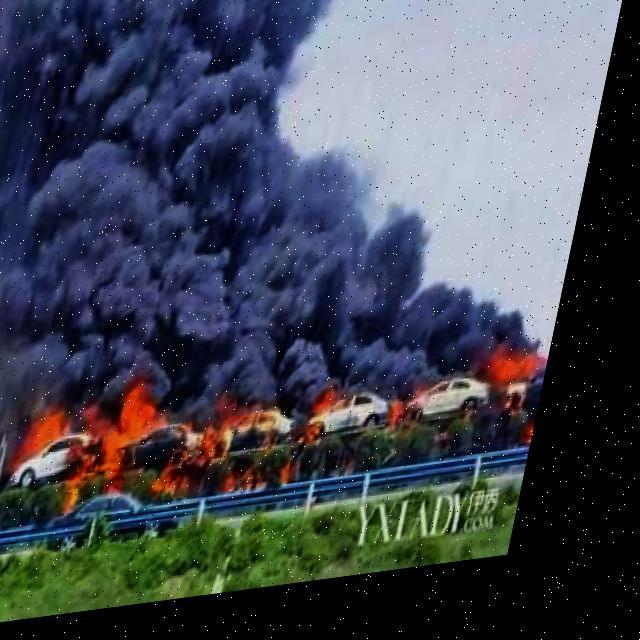Fire: (32, 341, 570, 528)
